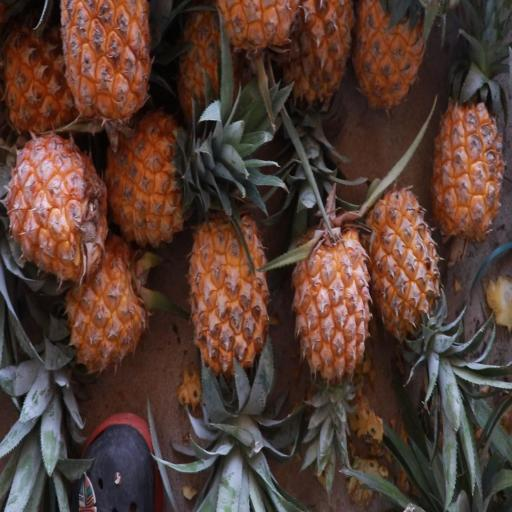Pineapple - v8 v1: (98, 104, 222, 252), (186, 206, 273, 416), (6, 128, 110, 293), (358, 178, 444, 371), (287, 211, 375, 395), (55, 0, 154, 155), (428, 65, 507, 255), (59, 227, 152, 382), (350, 0, 429, 118)
